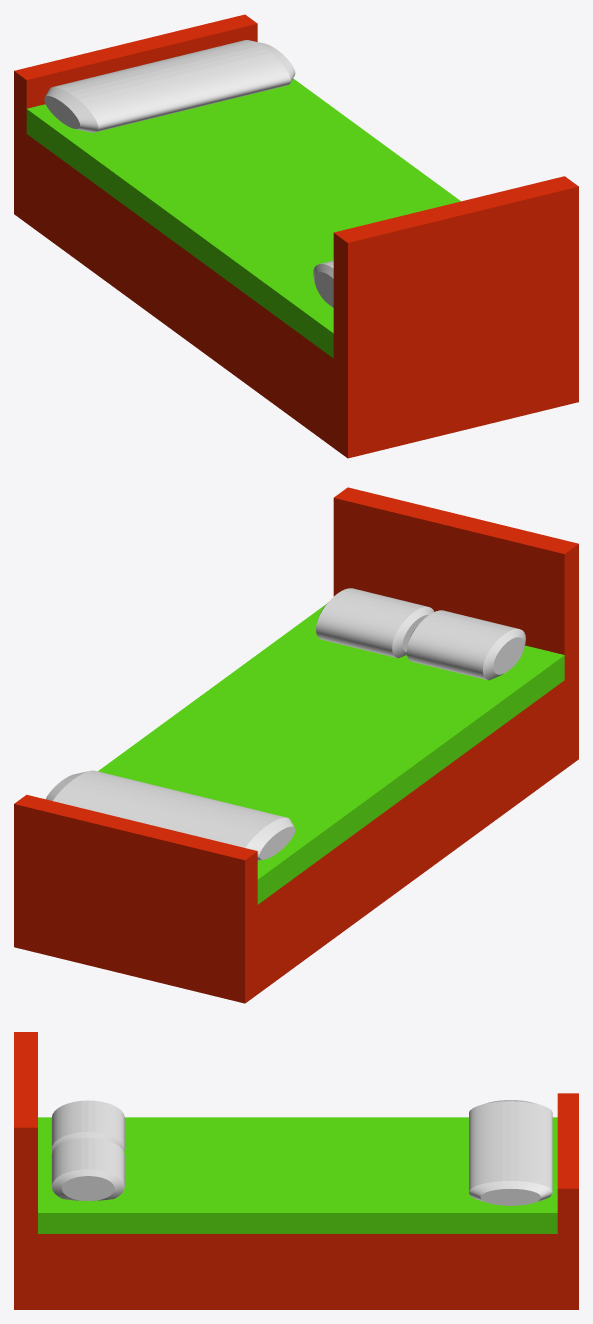
File: Bed.fbx
3 renders of one model, top to bottom at view 1: azimuth 30°, elevation 25°; view 2: azimuth 150°, elevation 25°; view 3: azimuth 270°, elevation 25°, orthographic. The views are drawn at different scales.
Parts seen in each view (by area): view 1: Cube.032; view 2: Cube.032; view 3: Cube.032.
Part boxes in pixels (<box>): Cube.032: <box>14,14,578,458</box>; Cube.032: <box>14,487,578,1003</box>; Cube.032: <box>14,1032,578,1309</box>.
Size of the model in its own units: 20 by 17.82 by 50.03.
